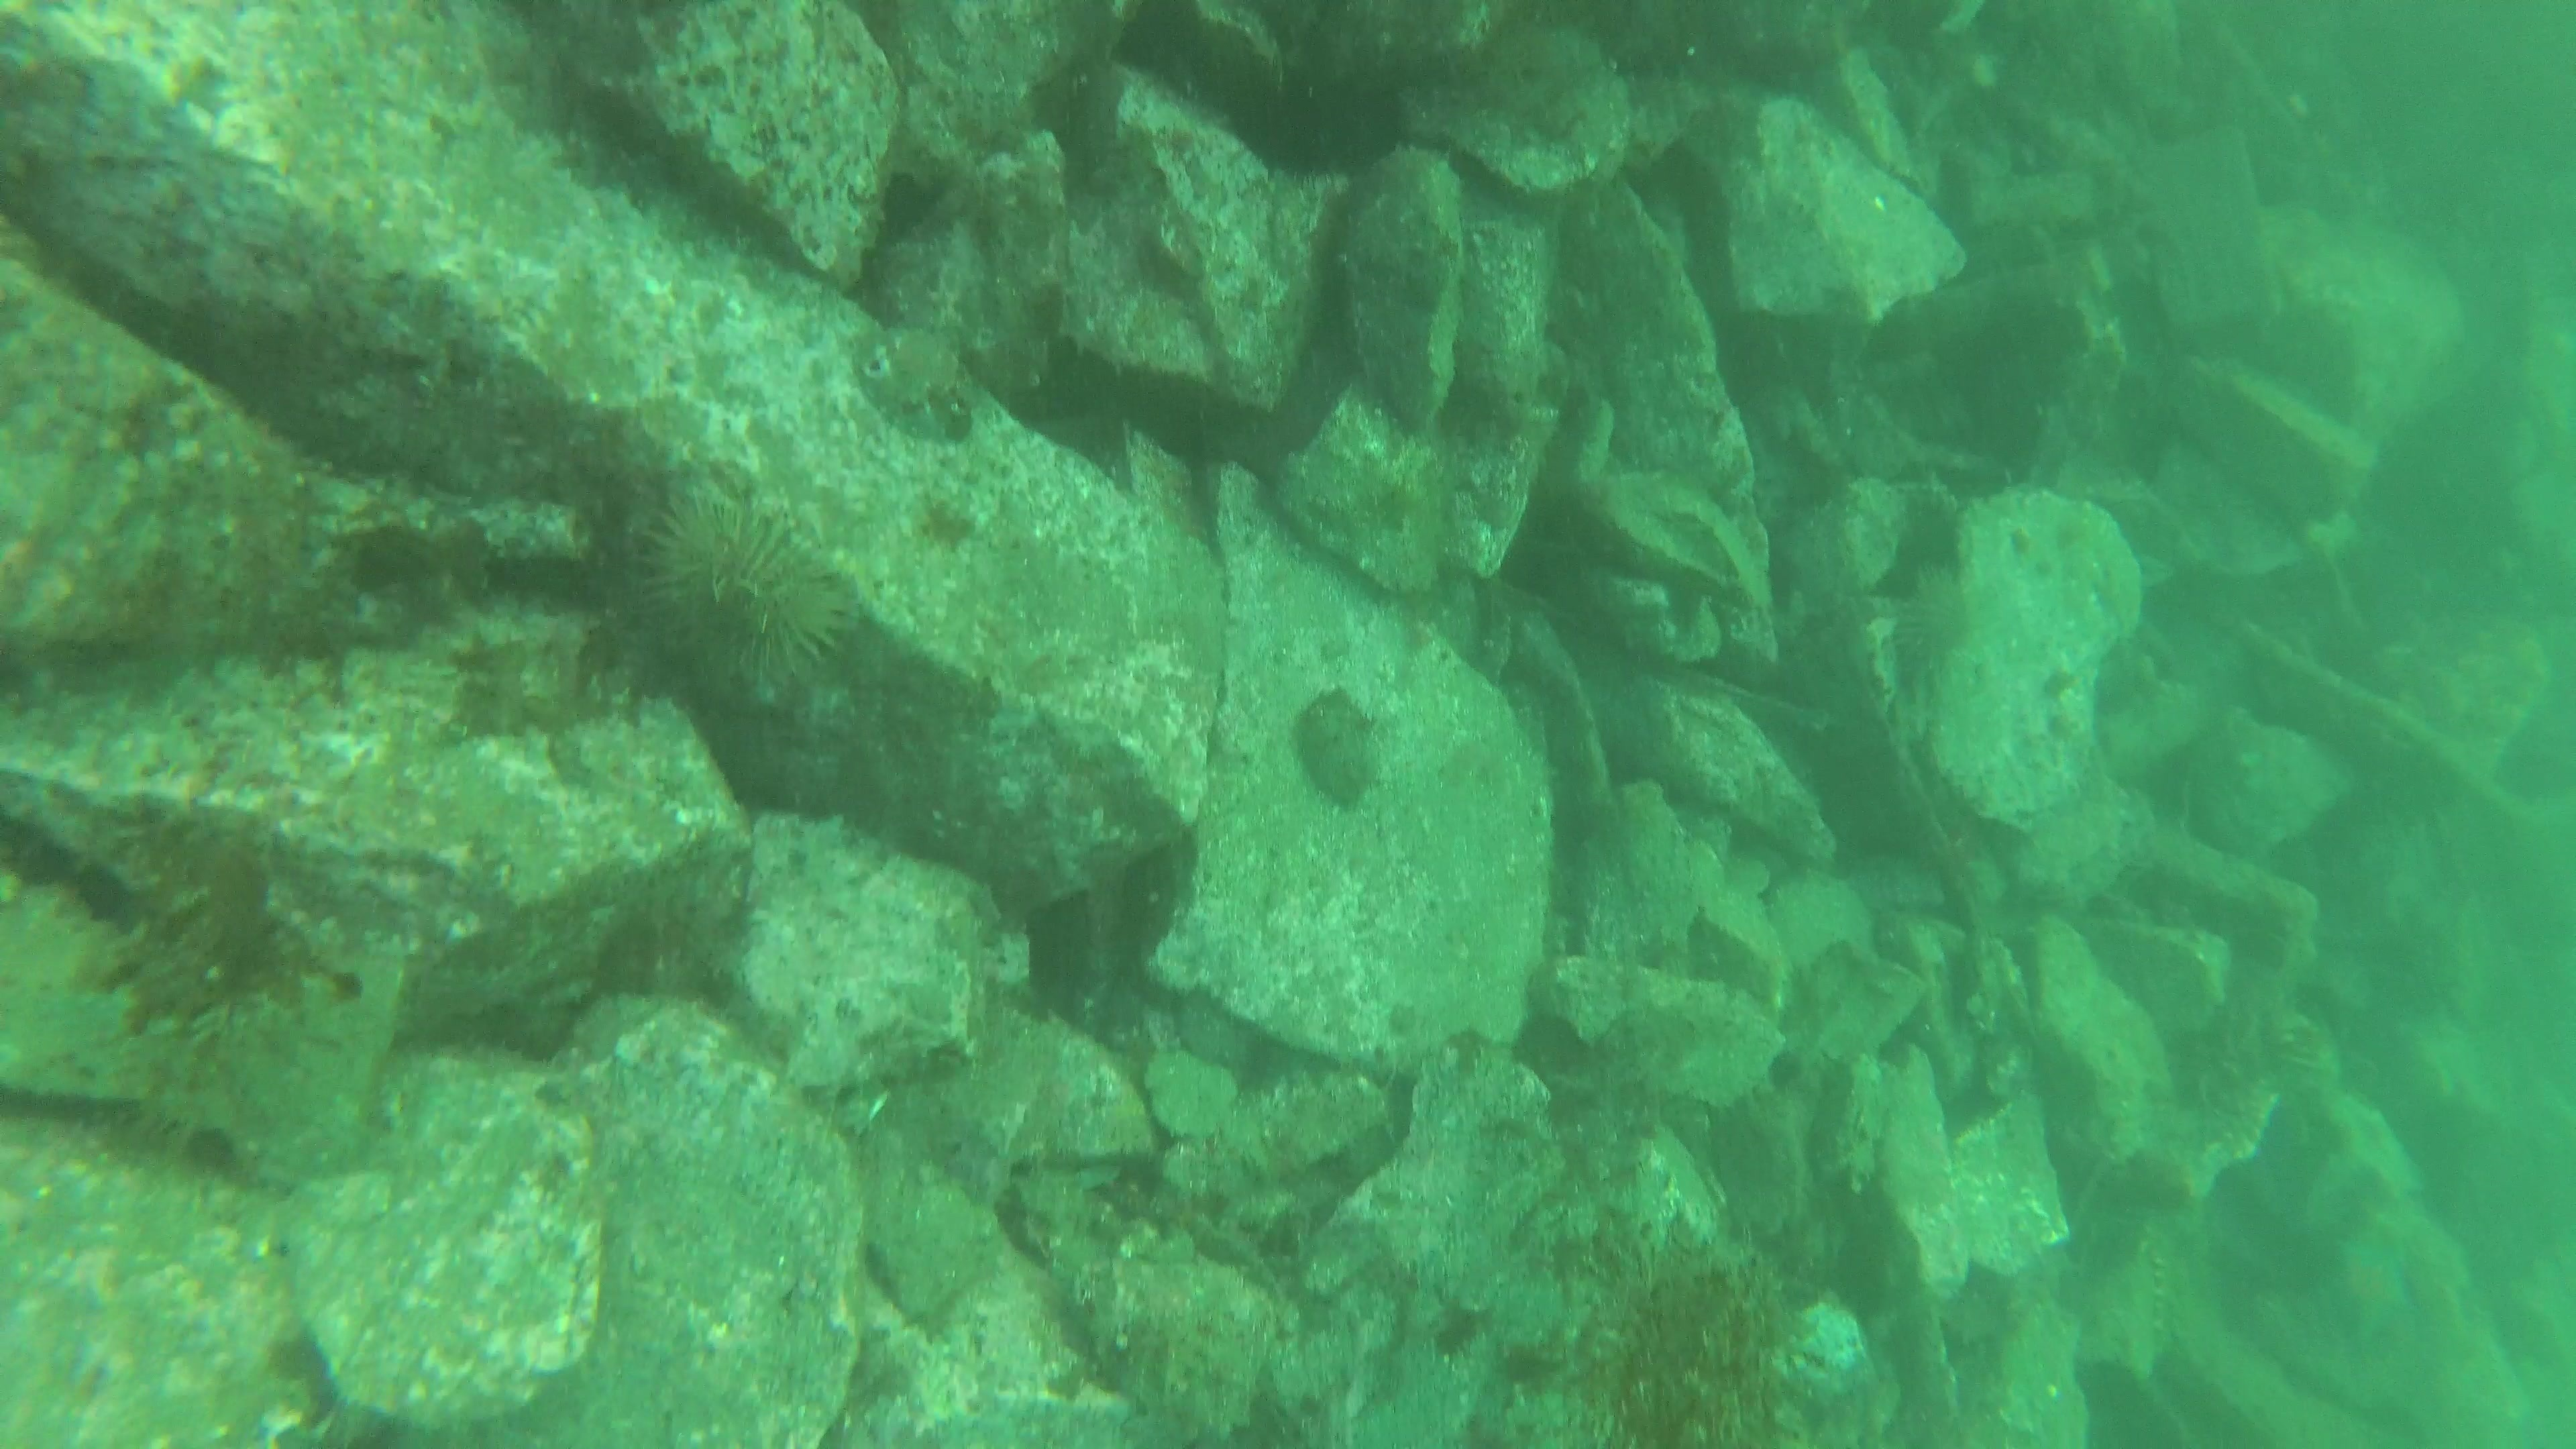echinus: (630, 490, 858, 697), (1879, 563, 2013, 708)
starfish: (2319, 1224, 2427, 1350)
